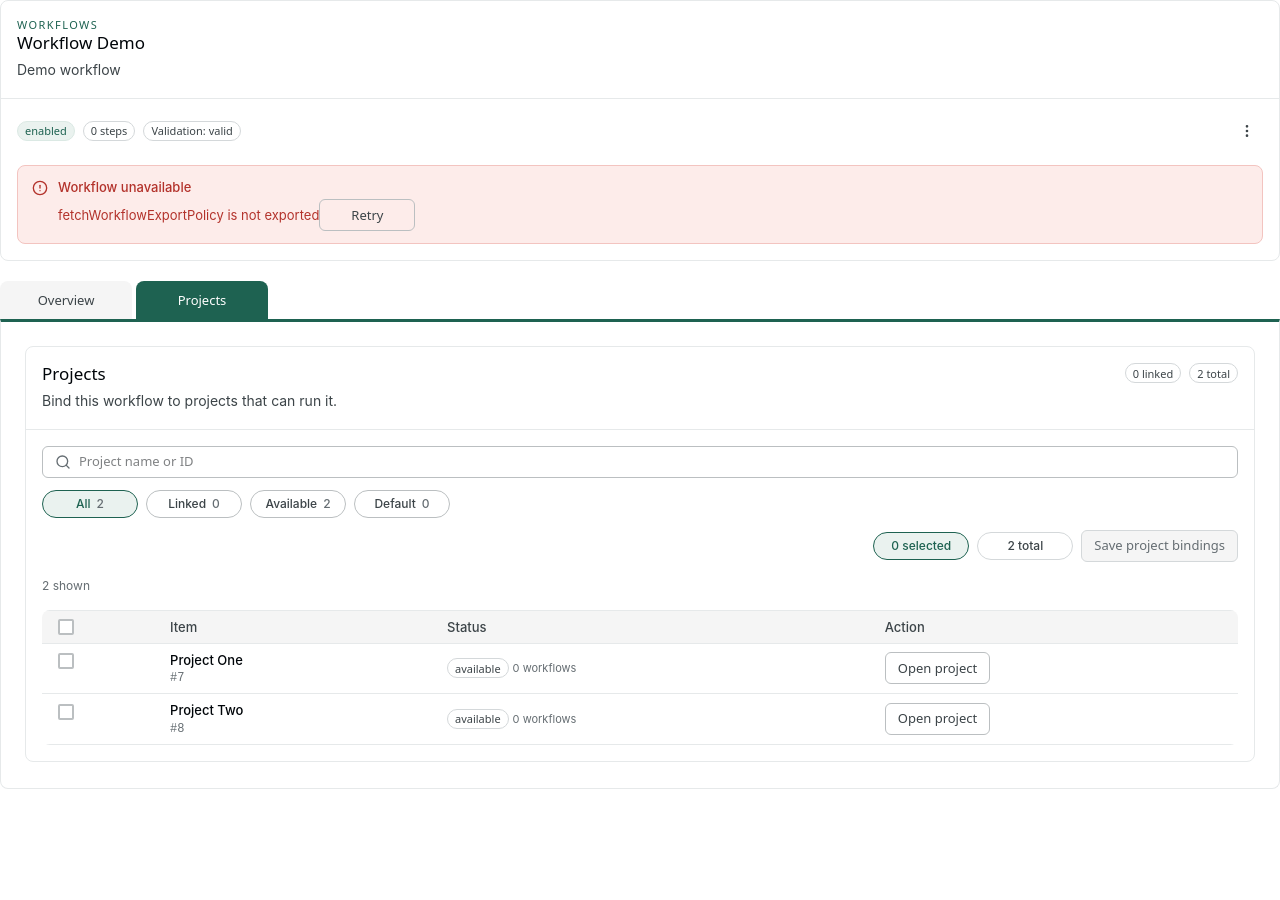
Test: WorkflowsProjectsPage › names failed projects and retries only their unsaved selection after a partial save
What coordinates should you click on to do the following:
click the checkbox named "Toggle Project One"
I would click on:
 (66, 661)
Its box is 58,653 -> 74,669.
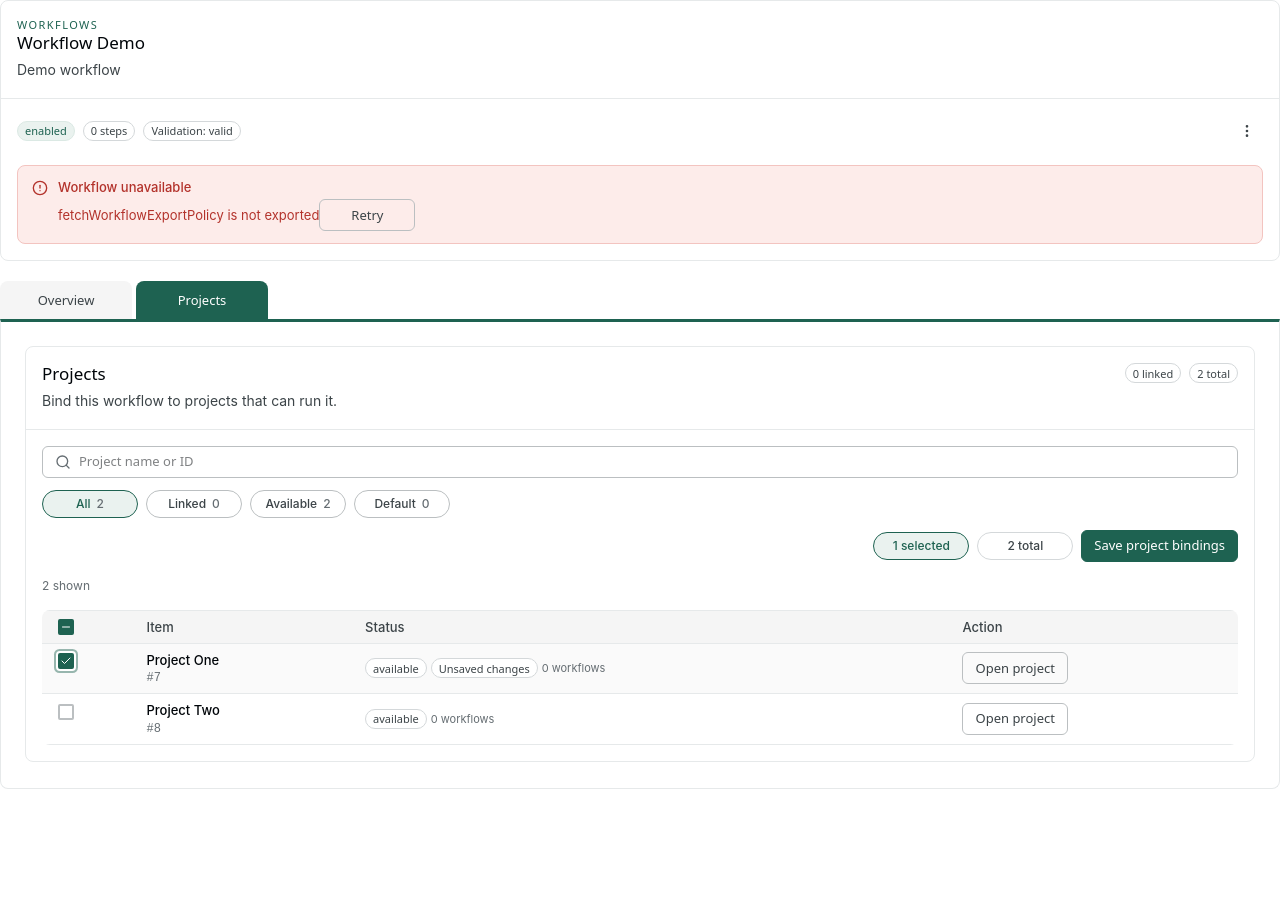
What coordinates should you click on to do the following:
click the checkbox named "Toggle Project Two"
I would click on:
 (66, 712)
Its box is 58,704 -> 74,720.
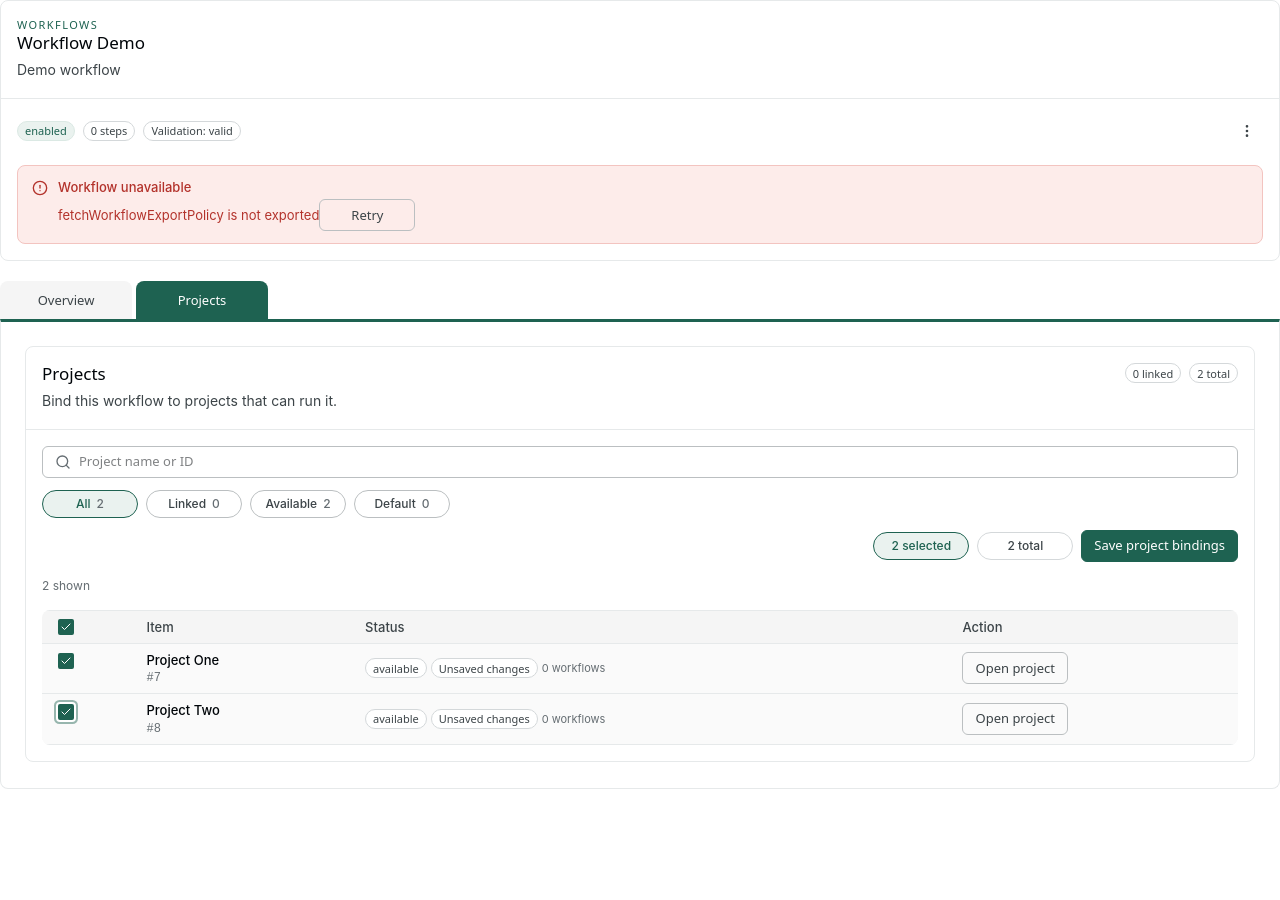
What coordinates should you click on to do the following:
click the button "Save project bindings"
I would click on:
 (1160, 546)
Its box is 1081,530 -> 1238,562.
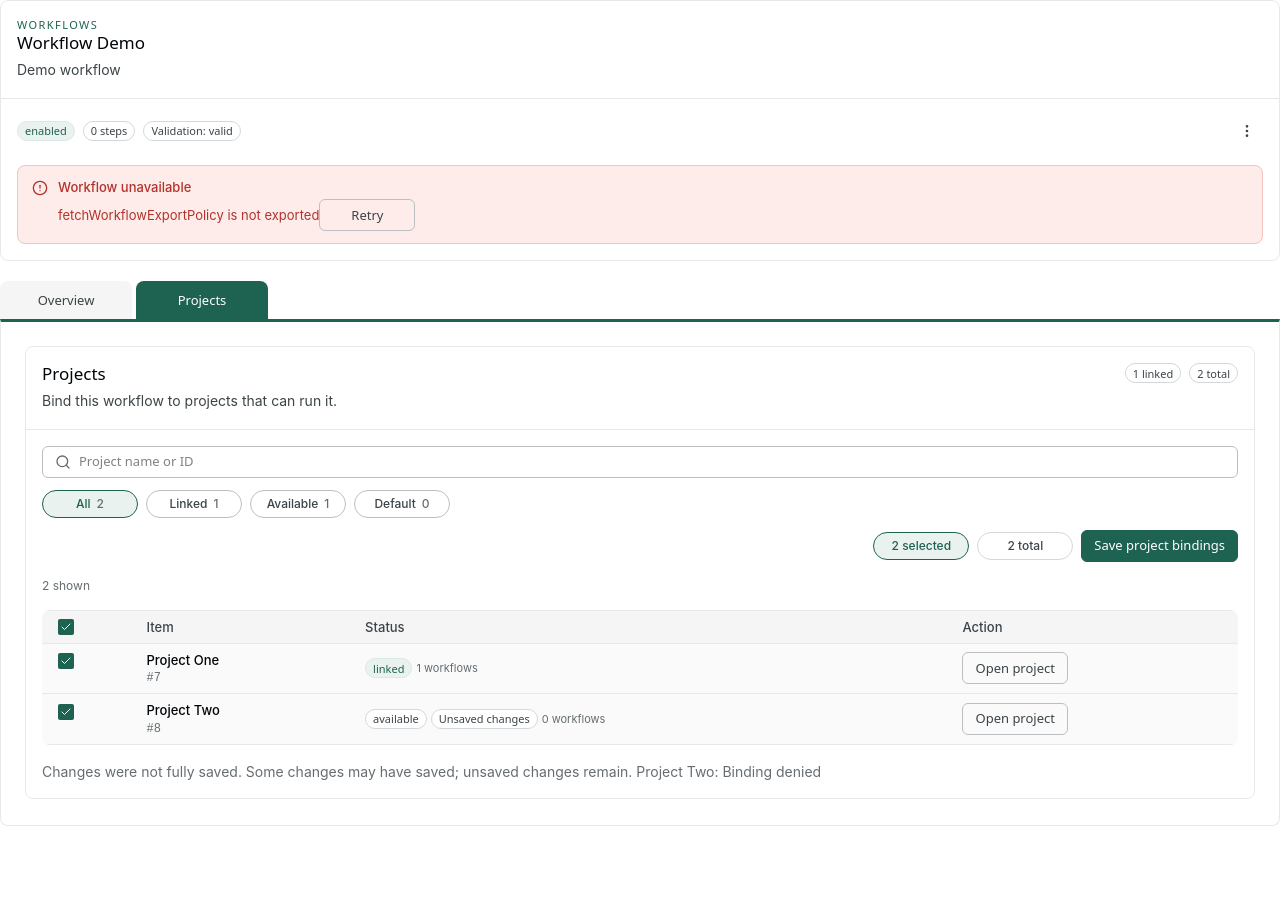
Check: the text "Unsaved changes" is shown, box 431,709 -> 538,729
Check: the text "Project Two: Binding denied" is shown, box 42,763 -> 821,780
Check: the text "linked" is shown, box 365,658 -> 412,678
What coordinates should you click on to do the following:
click the button "Save project bindings"
I would click on:
 (1160, 546)
Its box is 1081,530 -> 1238,562.
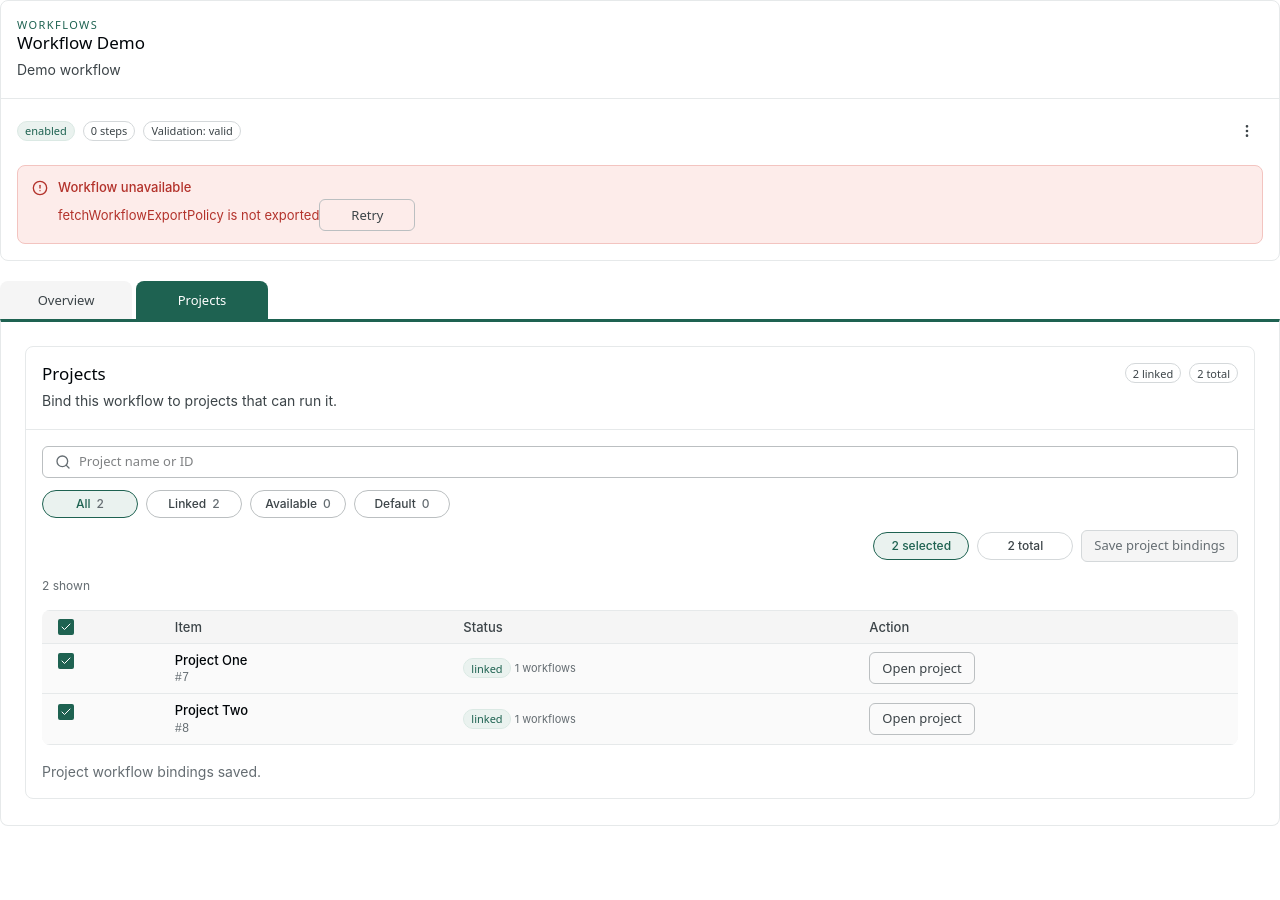
Check: the text "Project workflow bindings saved." is shown, box 42,763 -> 261,780
Check: the text "Unsaved changes" is gone
